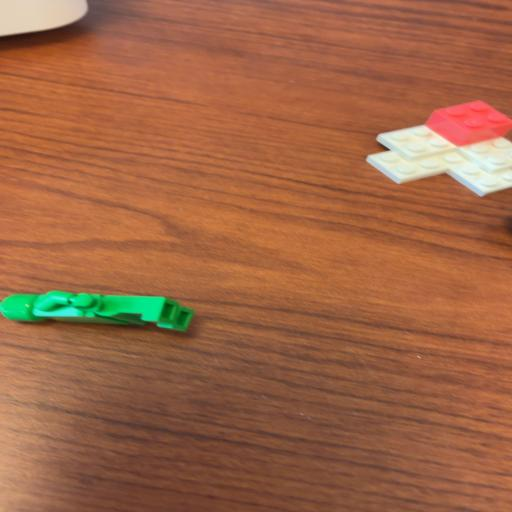UnoQ-minifig-detector: (0, 291, 193, 331)
